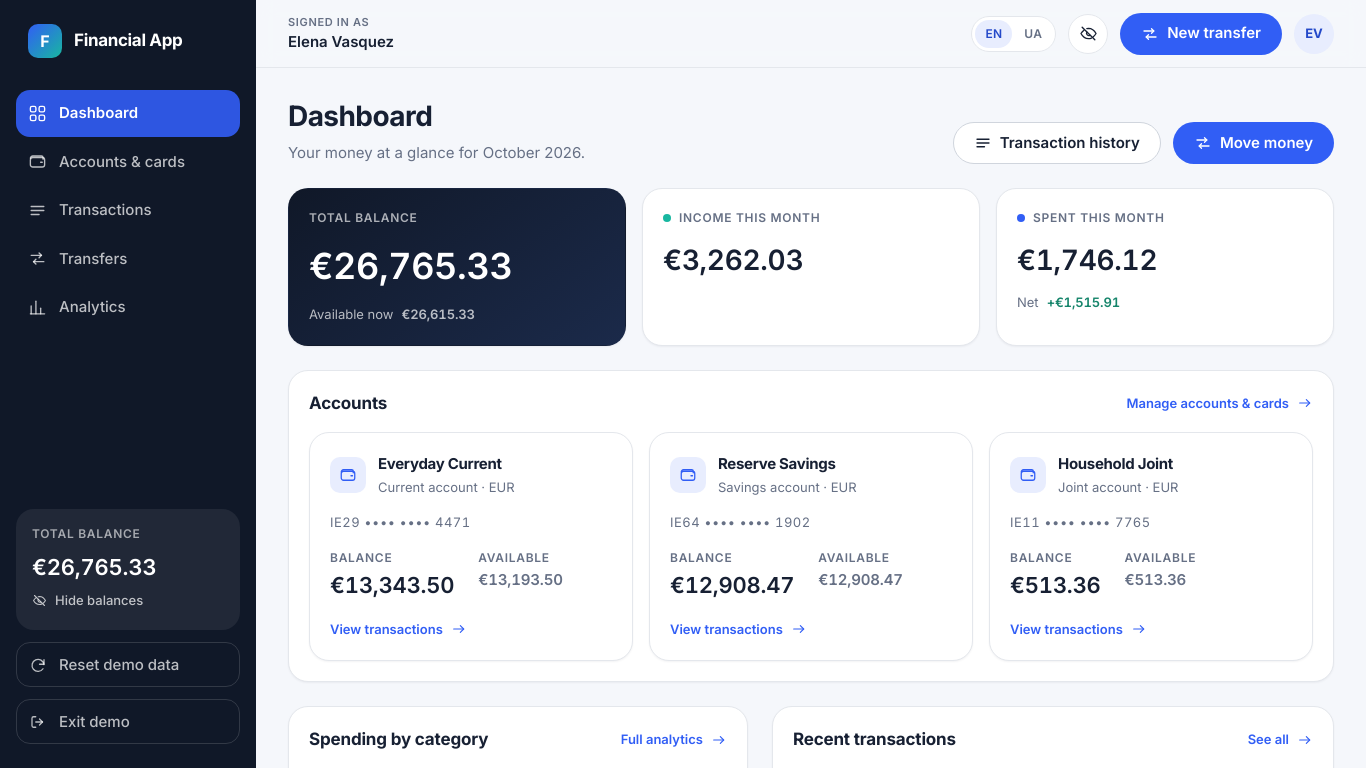
Test case: AppShell › switches language at runtime and keeps the document lang in sync
The image size is (1366, 768).
Check: the text "Signed in as" is shown, box [288,15,369,29]
Click the button "UA" at point(1033, 34), box [1014,20,1052,48]
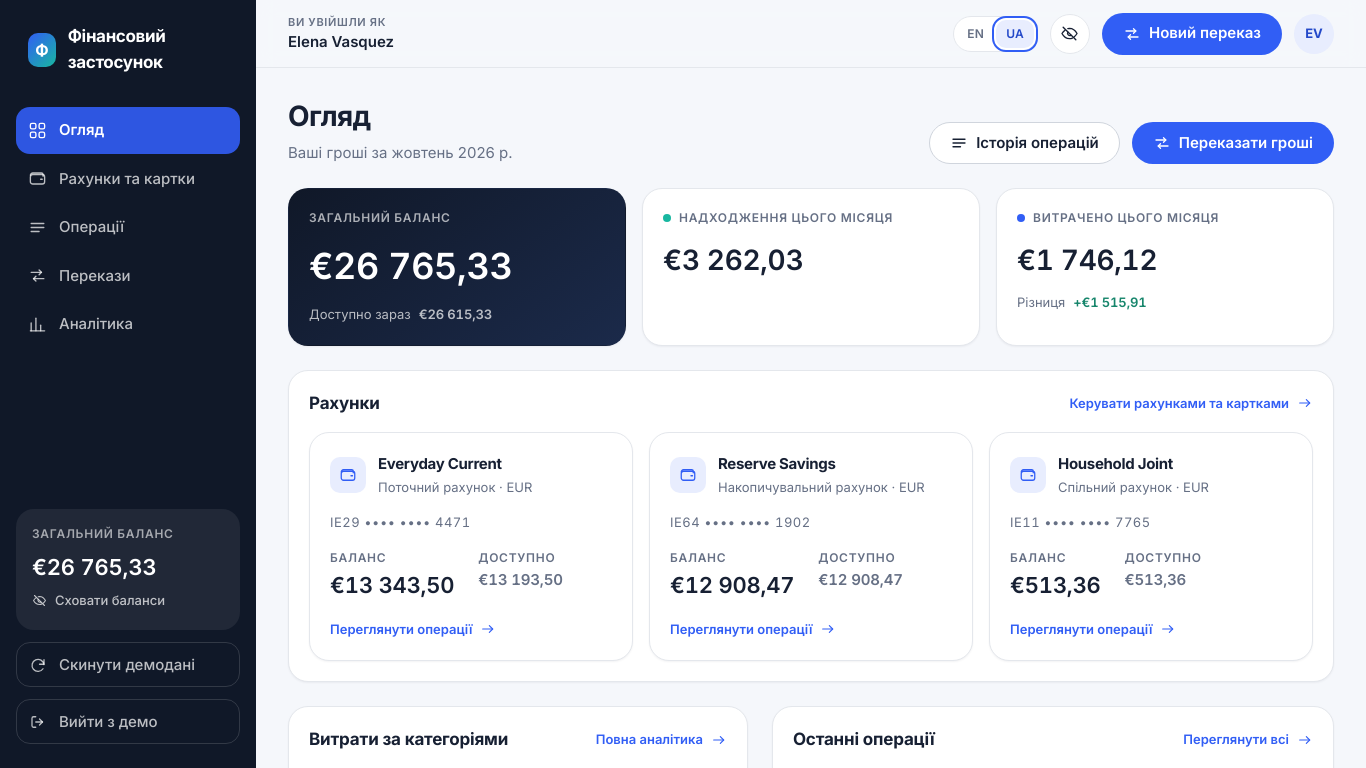
Check: the text "Signed in as" is gone
